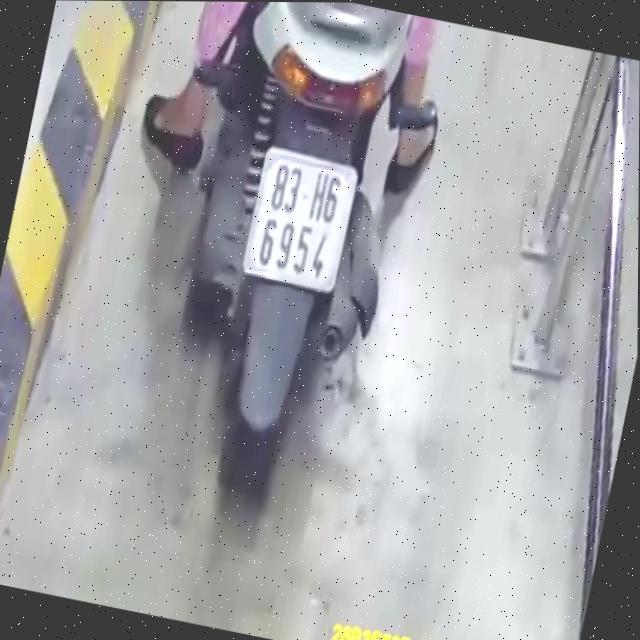motorcycle: (120, 1, 457, 512)
plate: (234, 144, 363, 298)
